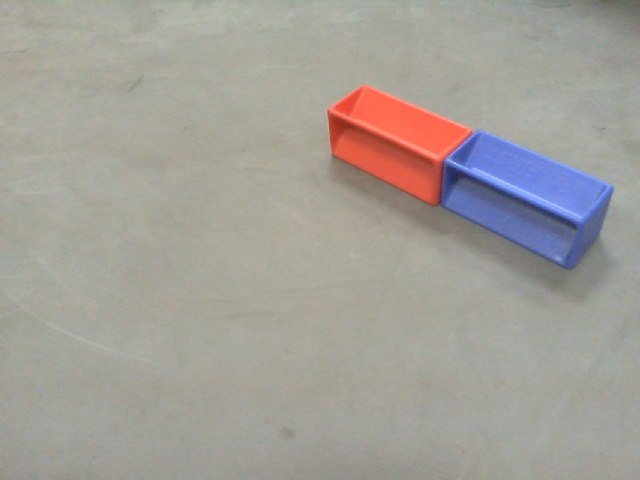BlueSample: (441, 129, 618, 277)
RedSample: (325, 81, 475, 218)
